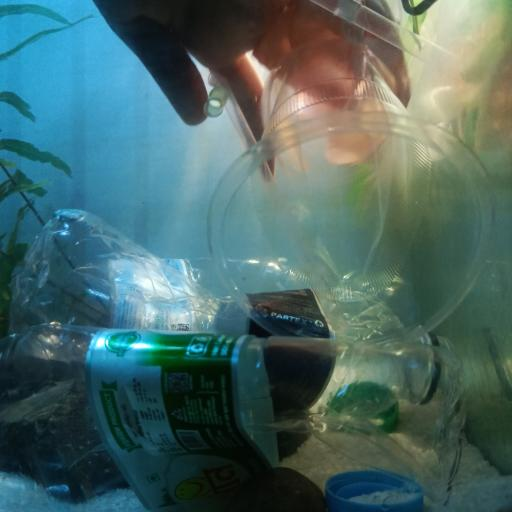bottle_cap: (321, 469, 429, 511), (330, 381, 400, 432)
plastic_bottle: (13, 207, 459, 407), (2, 320, 458, 501), (20, 254, 403, 344)
plastic_cup: (211, 32, 491, 354)
plastic_straw: (318, 1, 478, 84), (224, 90, 285, 228), (206, 82, 226, 114)
